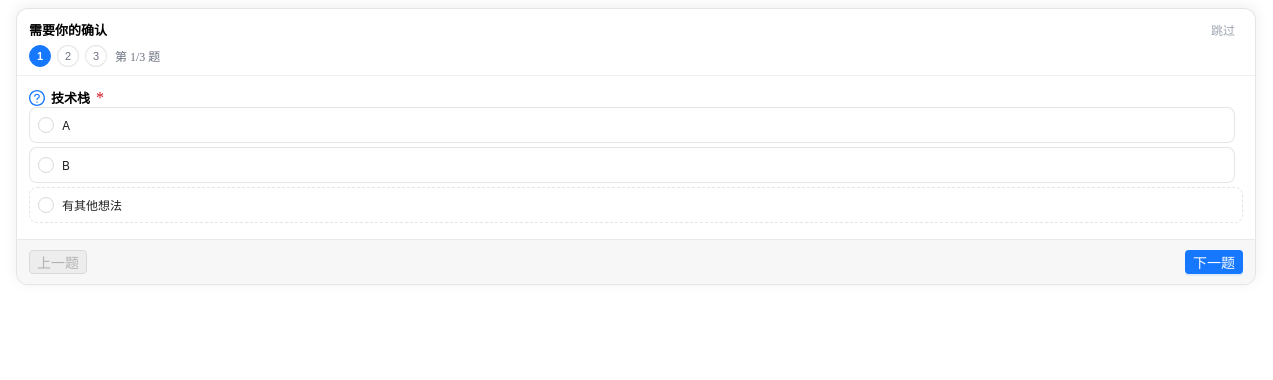
Test: ElicitationWizard › 选「有其他想法」但空值，必填拦下并提示
Click the radio button with test id "elicitation-option-q0-other" at (92, 206), box x1=29 y1=187 x2=1243 y2=223
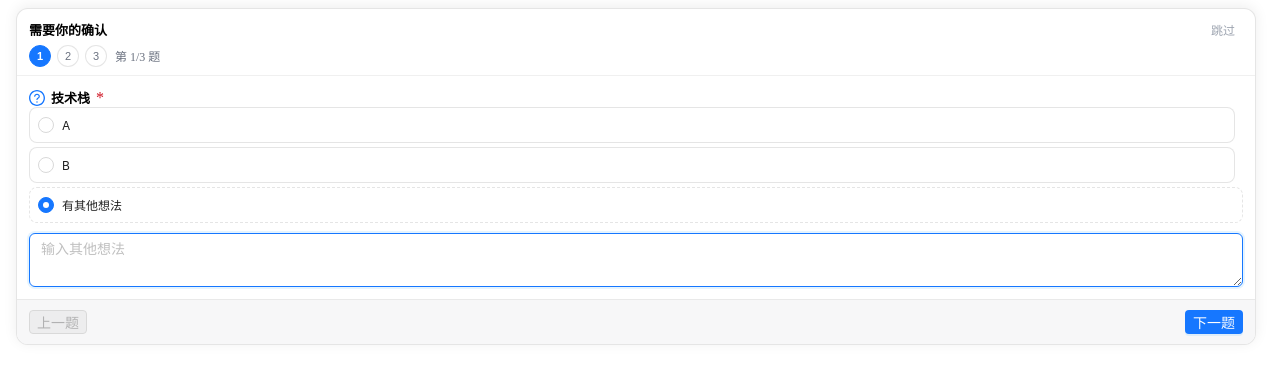
Click the button with test id "elicitation-next-r1" at (1214, 322), box x1=1185 y1=310 x2=1243 y2=334
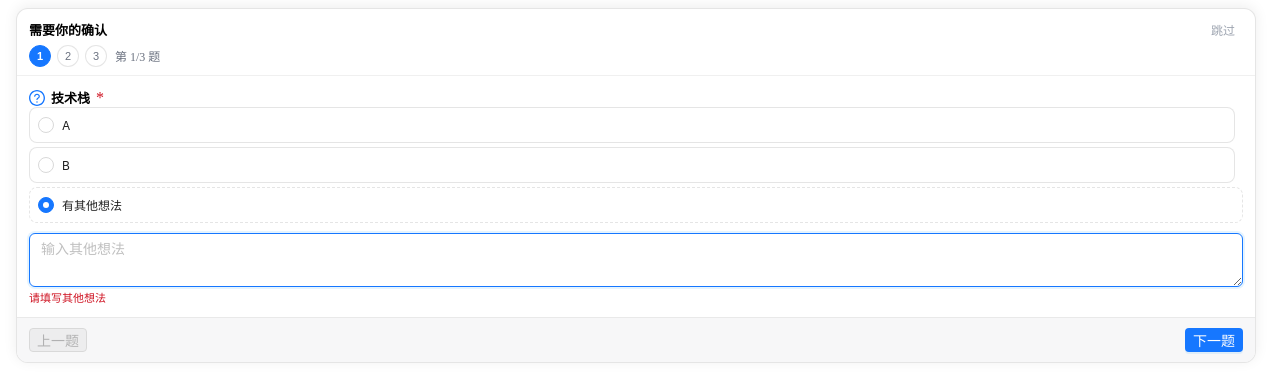
Now the text with test id "elicitation-error-q0" reads "请填写其他想法", box x1=29 y1=292 x2=106 y2=304
